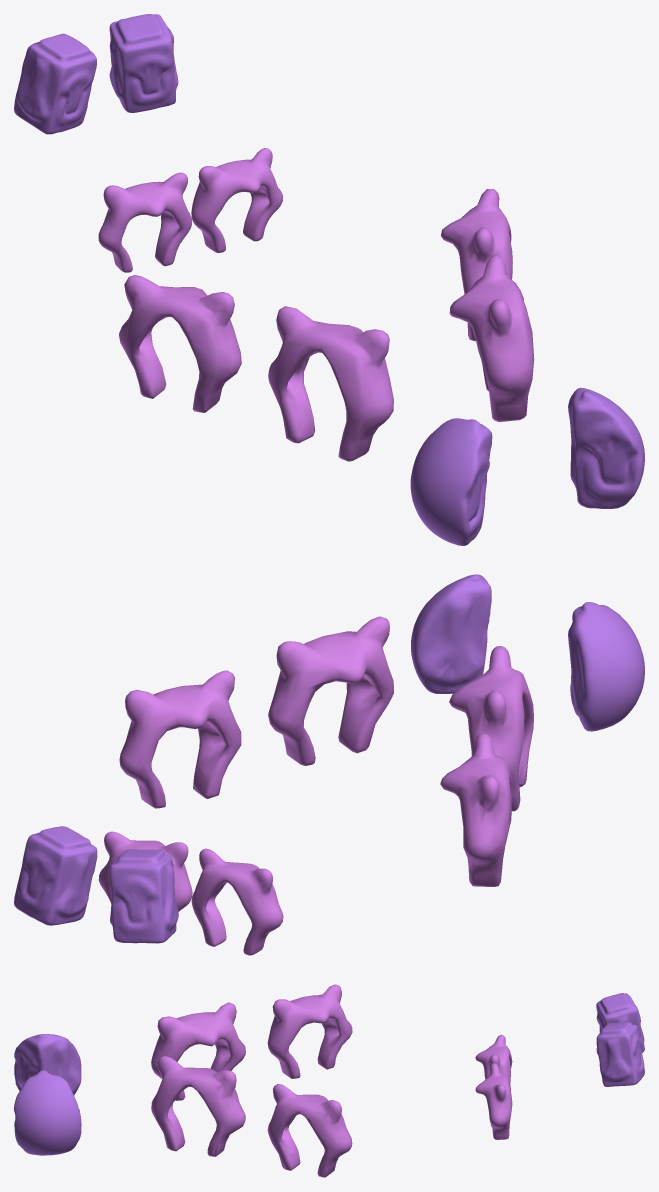
Rendered from portals.glb.
3 views of the same model, one above another, from view 1: azimuth 30°, elevation 25°; view 2: azimuth 150°, elevation 25°; view 3: azimuth 270°, elevation 25° (orthographic). The views are drawn at different scales.
Visible parts, largest first — view 1: Retopo_Layer_13.002; view 2: Retopo_Layer_13.002; view 3: Retopo_Layer_13.002.
Part boxes in pixels (x1,y1,x2,y2): Retopo_Layer_13.002: (14, 14, 644, 545); Retopo_Layer_13.002: (14, 574, 644, 955); Retopo_Layer_13.002: (14, 984, 644, 1177).
Size of the model in its own units: 2.24 by 0.9944 by 4.82.
